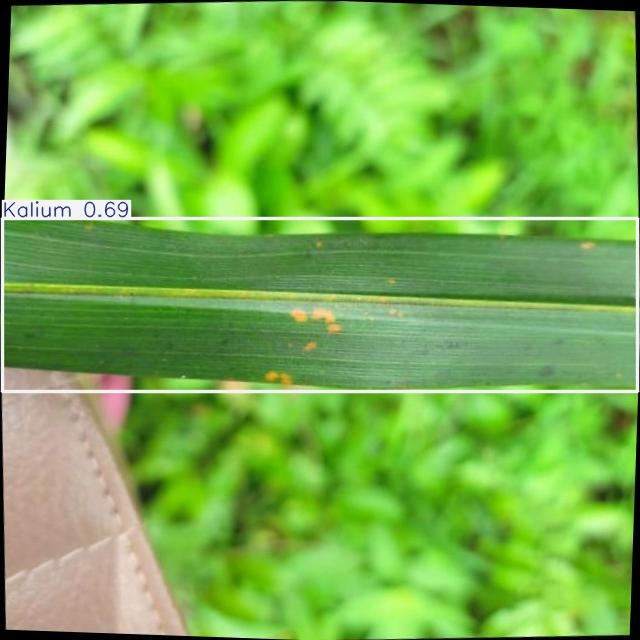Kalium: (3, 219, 637, 392)
